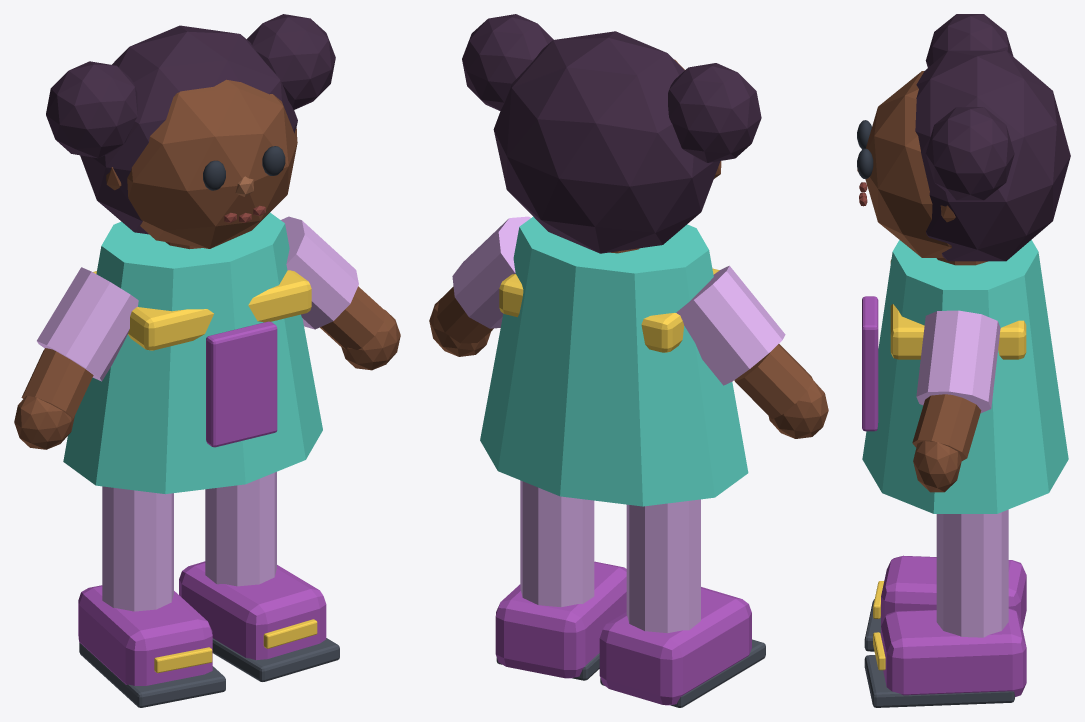
File: friend-a.glb
3 views of the same model, side by side, from view 1: azimuth 30°, elevation 25°; view 2: azimuth 150°, elevation 25°; view 3: azimuth 270°, elevation 25° (orthographic). The views are drawn at different scales.
Visible parts, largest first — view 1: friend_a_dress, friend_a_head, friend_a_hair_back, friend_a_shoe_L, friend_a_shoe_R, friend_a_leg_L, friend_a_front_panel, friend_a_leg_R, friend_a_puff_L, friend_a_sleeve_L, friend_a_puff_R, friend_a_waist_band (+9 smaller); view 2: friend_a_dress, friend_a_hair_back, friend_a_shoe_L, friend_a_leg_L, friend_a_shoe_R, friend_a_leg_R, friend_a_puff_L, friend_a_sleeve_L, friend_a_puff_R, friend_a_sleeve_R, friend_a_forearm_L, friend_a_waist_band (+4 smaller); view 3: friend_a_dress, friend_a_hair_back, friend_a_shoe_R, friend_a_leg_R, friend_a_head, friend_a_sleeve_R, friend_a_puff_R, friend_a_shoe_L, friend_a_forearm_R, friend_a_puff_L, friend_a_shoe_R_sole, friend_a_waist_band (+5 smaller).
Boxes of the visible parts, x1,y1,x2,y2 form: friend_a_dress: [63, 212, 322, 494]; friend_a_head: [127, 79, 297, 248]; friend_a_hair_back: [80, 25, 297, 234]; friend_a_shoe_L: [78, 585, 212, 685]; friend_a_shoe_R: [179, 561, 326, 660]; friend_a_leg_L: [102, 486, 173, 611]; friend_a_front_panel: [206, 321, 277, 447]; friend_a_leg_R: [205, 472, 276, 586]; friend_a_puff_L: [46, 61, 137, 158]; friend_a_sleeve_L: [37, 267, 138, 381]; friend_a_puff_R: [247, 14, 335, 109]; friend_a_waist_band: [93, 270, 311, 350]; friend_a_dress: [480, 216, 748, 506]; friend_a_hair_back: [493, 31, 720, 253]; friend_a_shoe_L: [599, 587, 751, 705]; friend_a_leg_L: [626, 499, 700, 633]; friend_a_shoe_R: [495, 561, 626, 678]; friend_a_leg_R: [520, 480, 594, 607]; friend_a_puff_L: [668, 63, 761, 162]; friend_a_sleeve_L: [676, 265, 785, 385]; friend_a_puff_R: [462, 14, 553, 110]; friend_a_sleeve_R: [452, 216, 530, 328]; friend_a_forearm_L: [734, 344, 812, 419]; friend_a_waist_band: [499, 268, 719, 352]; friend_a_dress: [862, 240, 1068, 513]; friend_a_hair_back: [915, 50, 1070, 261]; friend_a_shoe_R: [881, 608, 1026, 696]; friend_a_leg_R: [936, 509, 1008, 637]; friend_a_head: [865, 71, 951, 257]; friend_a_sleeve_R: [916, 310, 1000, 412]; friend_a_puff_R: [925, 107, 1014, 200]; friend_a_shoe_L: [881, 555, 1026, 628]; friend_a_forearm_R: [912, 394, 981, 460]; friend_a_puff_L: [925, 14, 1013, 67]; friend_a_shoe_R_sole: [864, 655, 1014, 707]; friend_a_waist_band: [890, 260, 1026, 359].
Size of the model in its own units: 0.9193 by 1.43 by 0.4566.
